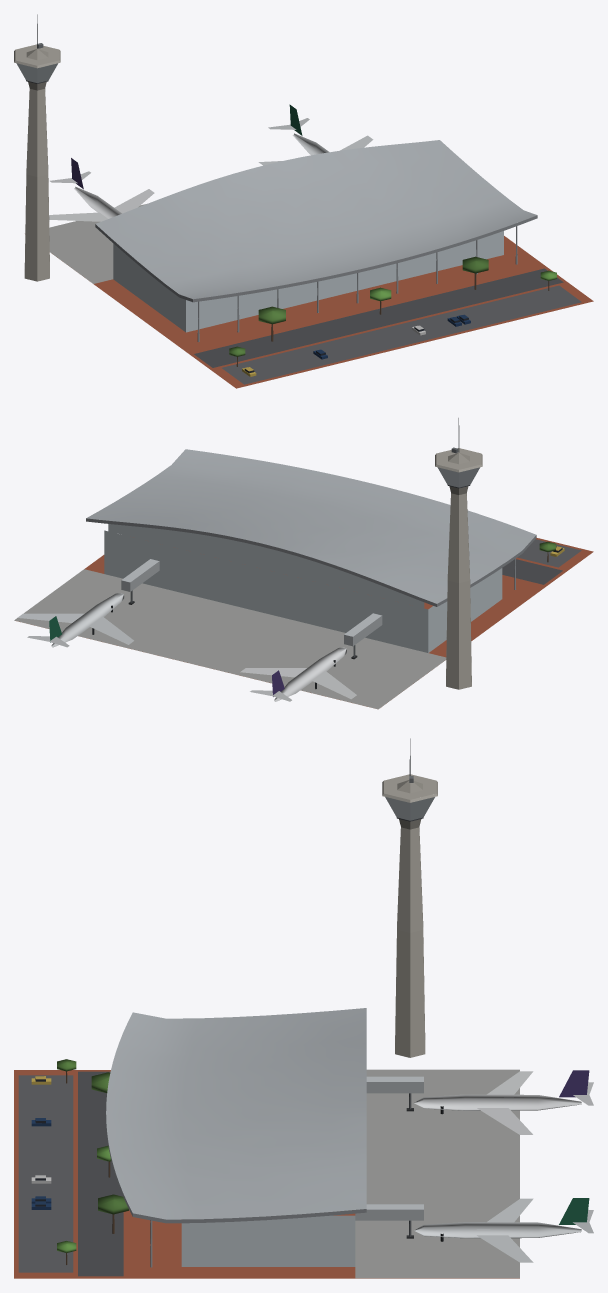
The model's file is airport-abuja.lod1.glb.
3 renders of one model, top to bottom at view 1: azimuth 30°, elevation 25°; view 2: azimuth 150°, elevation 25°; view 3: azimuth 270°, elevation 25°, orthographic. The views are drawn at different scales.
Bounding box in the file's own units: 125 × 75.31 × 127.
